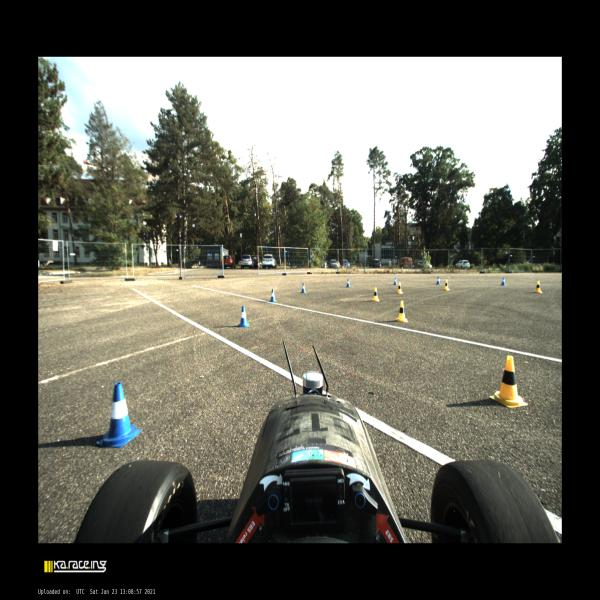blue_cone: (94, 382, 142, 447), (238, 304, 250, 328), (269, 287, 277, 303), (500, 276, 506, 286), (301, 282, 306, 294), (346, 278, 350, 288), (436, 276, 440, 285), (393, 277, 397, 285)
yellow_cone: (488, 354, 528, 409), (396, 300, 408, 322), (533, 280, 543, 293), (372, 287, 380, 302), (443, 279, 450, 291), (397, 282, 403, 294)
